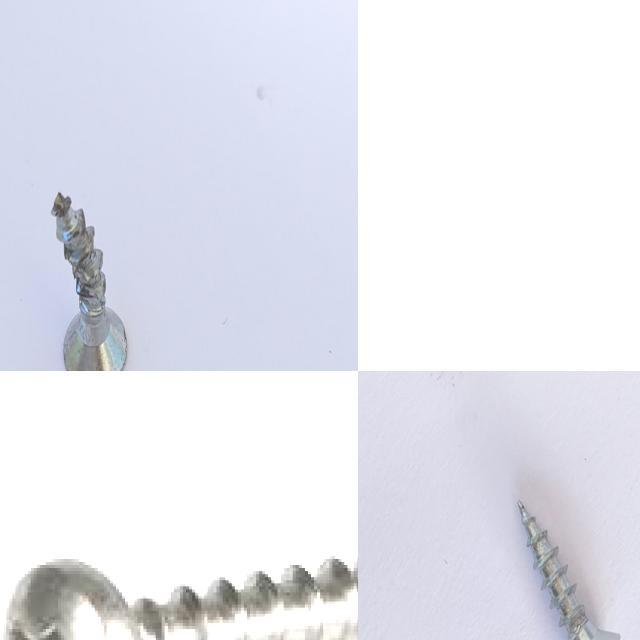Screw: (0, 559, 358, 640), (518, 500, 620, 640), (51, 191, 127, 371)
